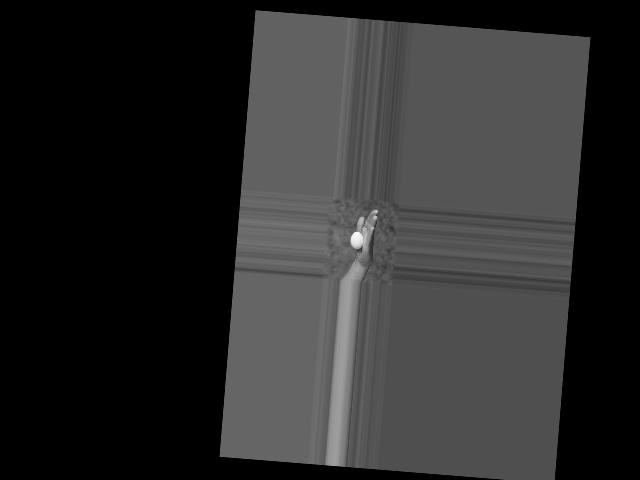egg: (349, 231, 364, 249)
